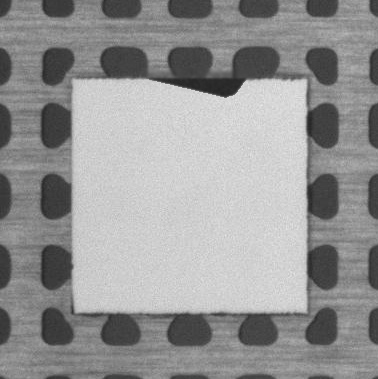DIE_BROKEN: (148, 75, 246, 99)
